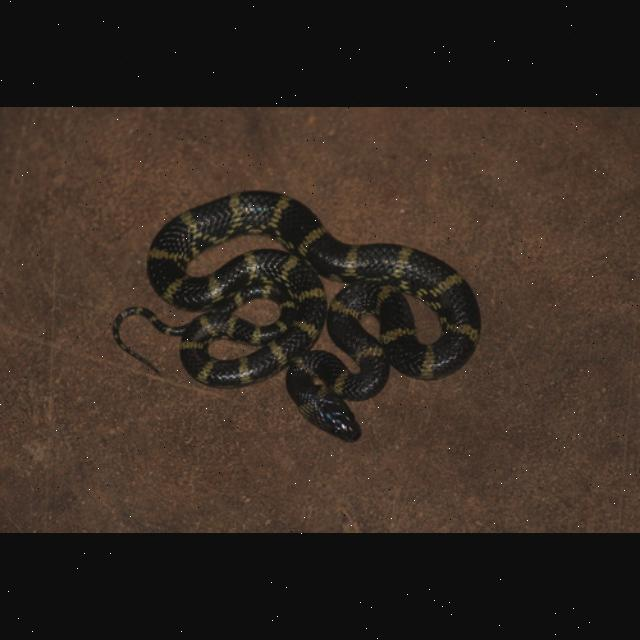snake: (109, 186, 485, 448)
